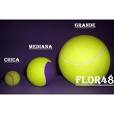tennis ball: (57, 34, 111, 84), (25, 55, 56, 87), (3, 70, 21, 86)
